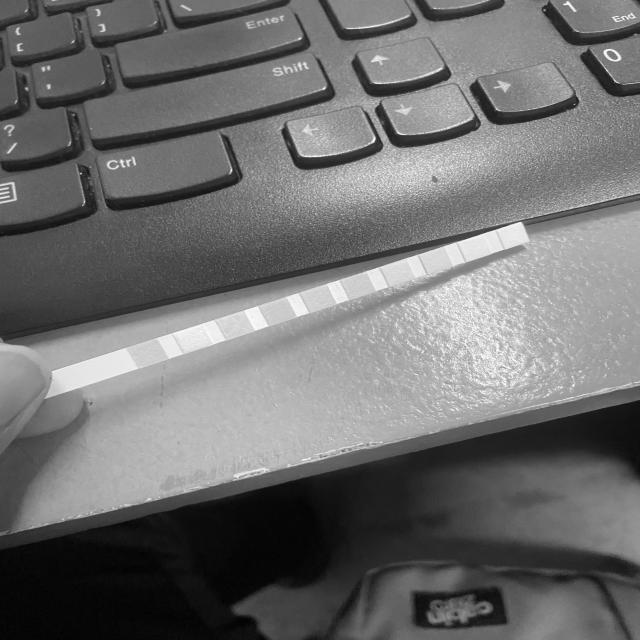Bilirubin: (182, 330, 206, 348)
Blood: (306, 290, 331, 307)
Glucose: (138, 344, 160, 361)
Ketone: (223, 317, 247, 334)
Leukocytes: (504, 227, 524, 243)
Nitrite: (464, 240, 485, 256)
Protein: (387, 264, 409, 280)
SpGravity: (264, 304, 291, 317)
Urobilinogen: (424, 253, 447, 268)
background: (0, 0, 640, 640)
pH: (348, 277, 369, 294)
strip: (54, 222, 530, 392)
